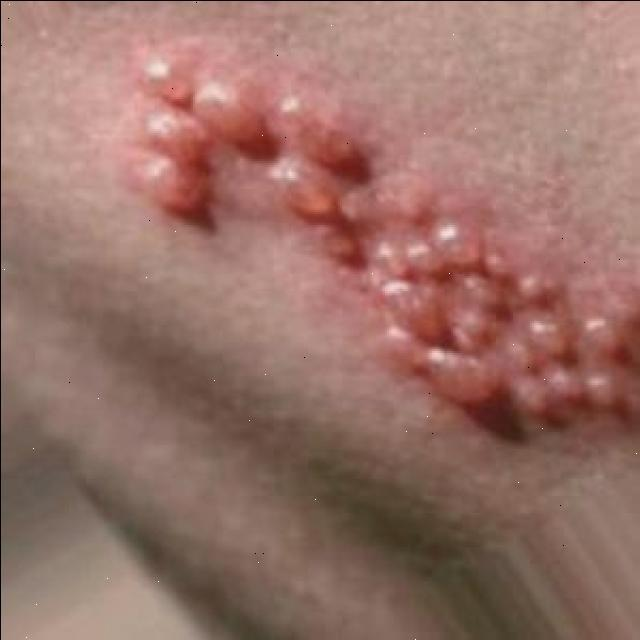Shingles: (125, 52, 624, 431)
